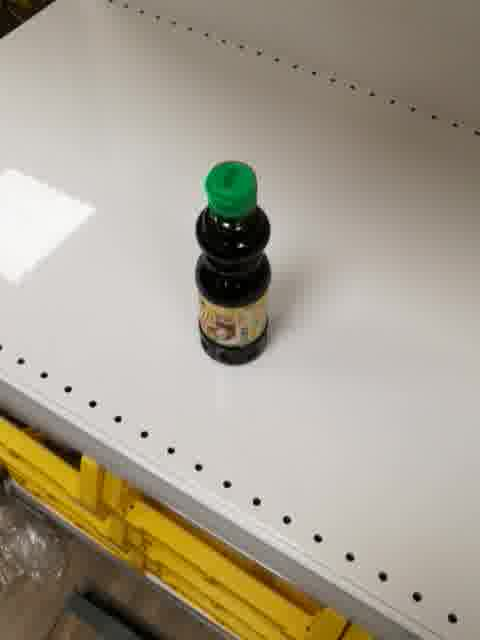cookingoil: (193, 156, 272, 368)
